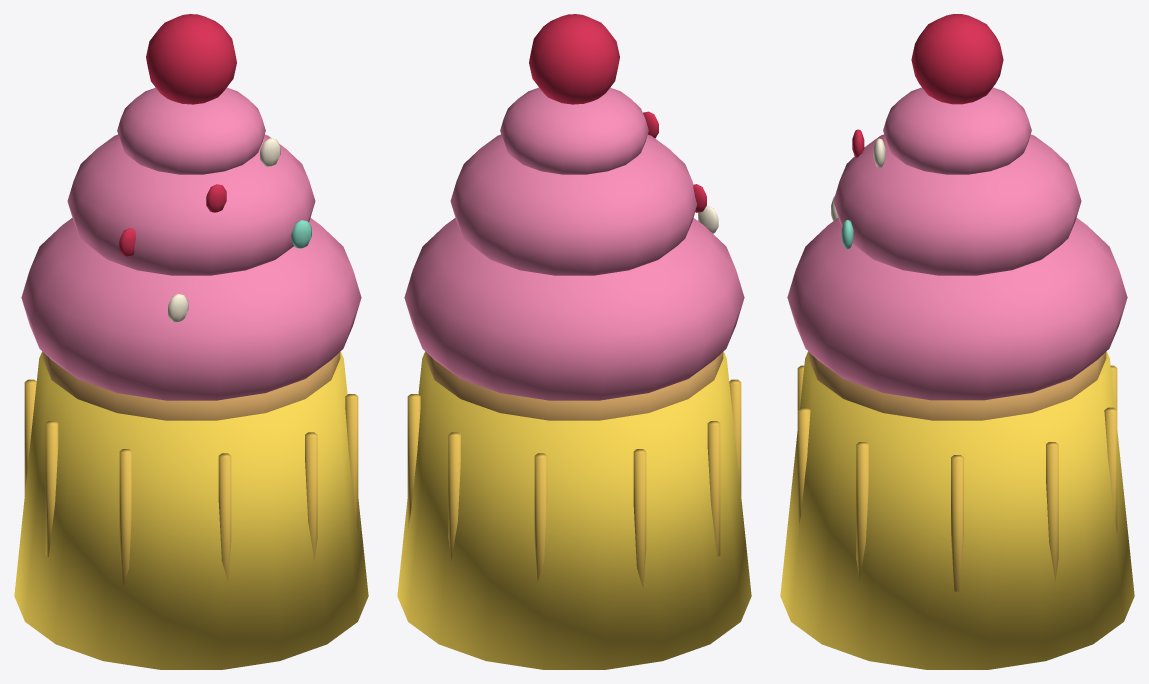
Rendered from cupcake.glb.
3 views of the same model, side by side, from view 1: azimuth 30°, elevation 25°; view 2: azimuth 150°, elevation 25°; view 3: azimuth 270°, elevation 25° (orthographic).
Parts seen in each view (by area): view 1: cupcake; view 2: cupcake; view 3: cupcake.
Part boxes in pixels (<box>): cupcake: <box>14,14,368,669</box>; cupcake: <box>397,14,751,669</box>; cupcake: <box>780,14,1134,669</box>.
Size of the model in its own units: 0.5471 by 1 by 0.5556.
